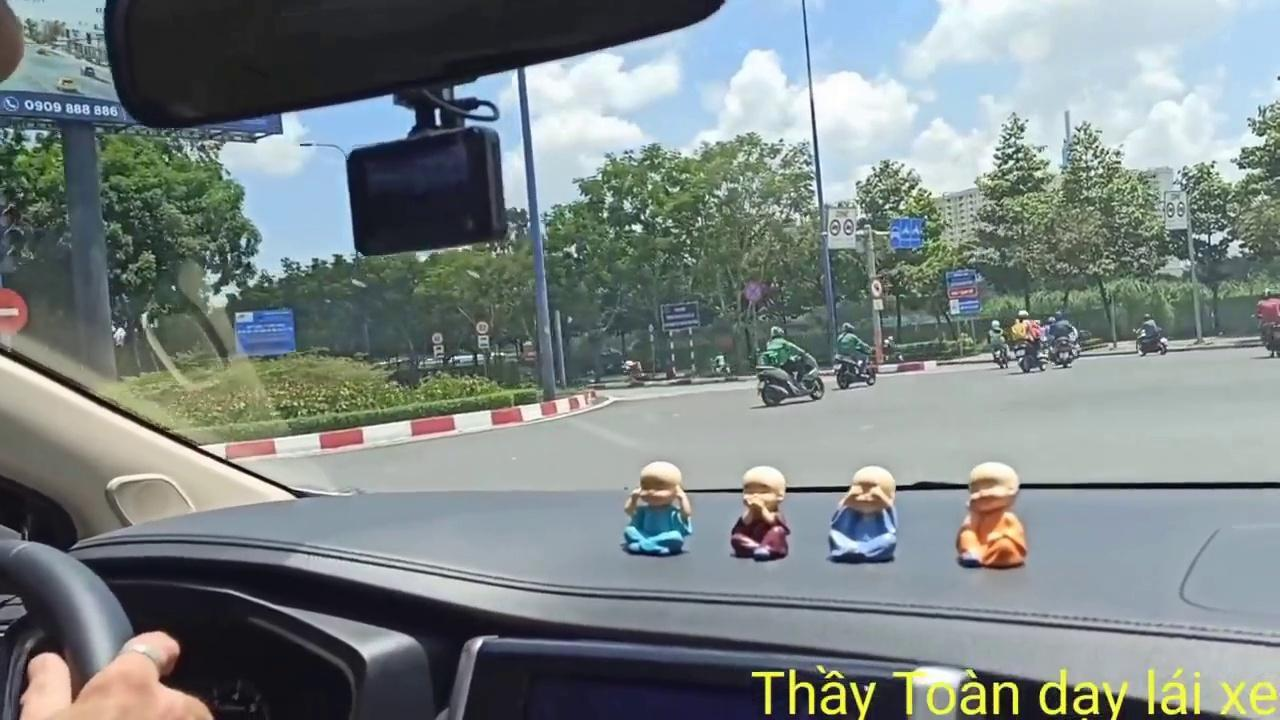Biển phụ: (433, 344, 446, 358), (478, 334, 490, 349)
Cấm cac phương tiện hoạt động trong khung giờ cố định: (827, 206, 857, 251)
Cấm dừng - Cấm đỗ: (743, 278, 763, 304)
Cấm đi ngược chiều: (0, 283, 24, 345)
Khác: (232, 309, 298, 355), (945, 268, 981, 316)
Làn đường cho từng xe: (888, 216, 922, 249)
